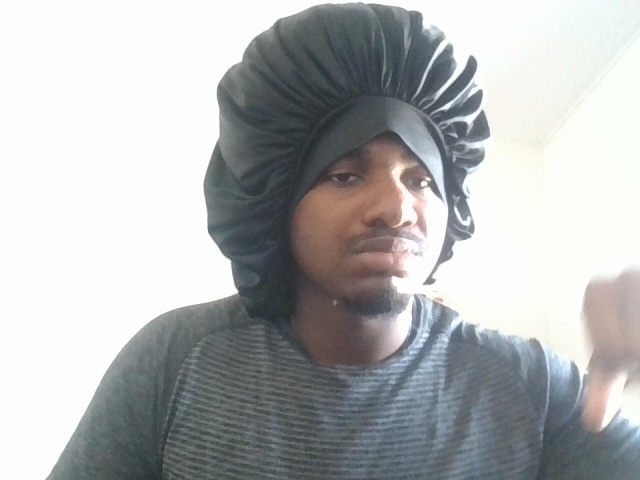Yes: (540, 241, 640, 440)
